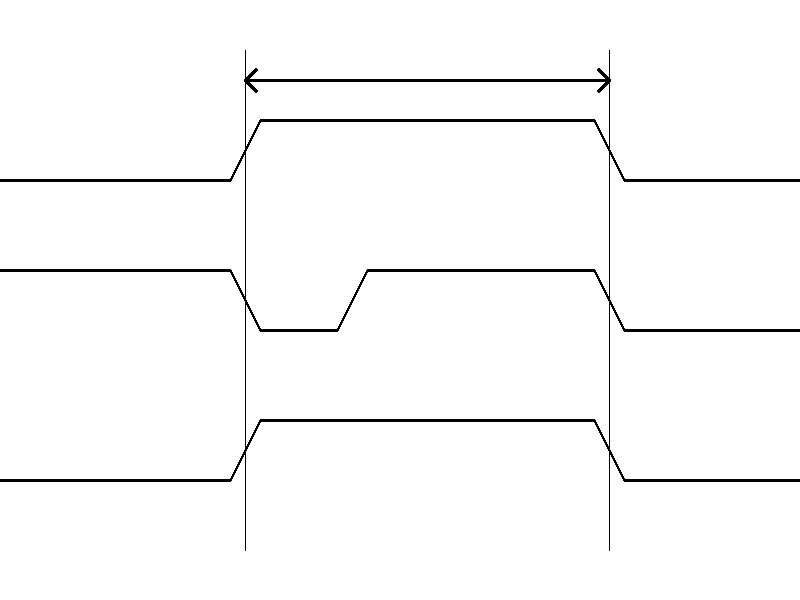double_arrow: (245, 65, 609, 95)
